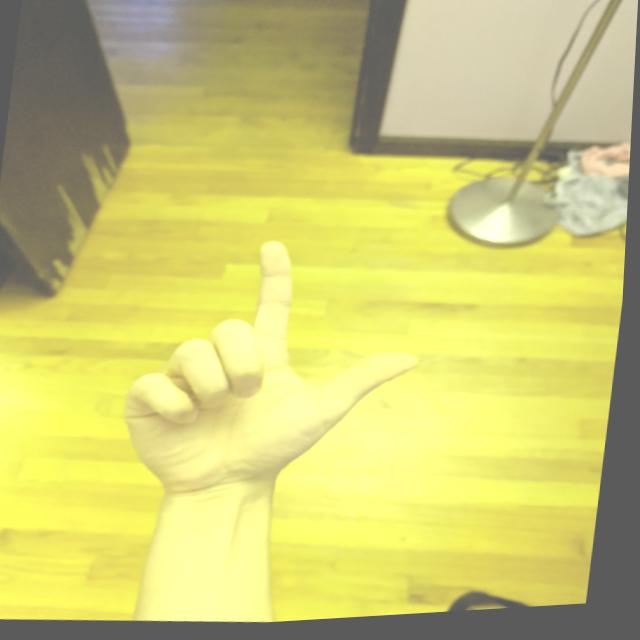L: (110, 220, 447, 521)
